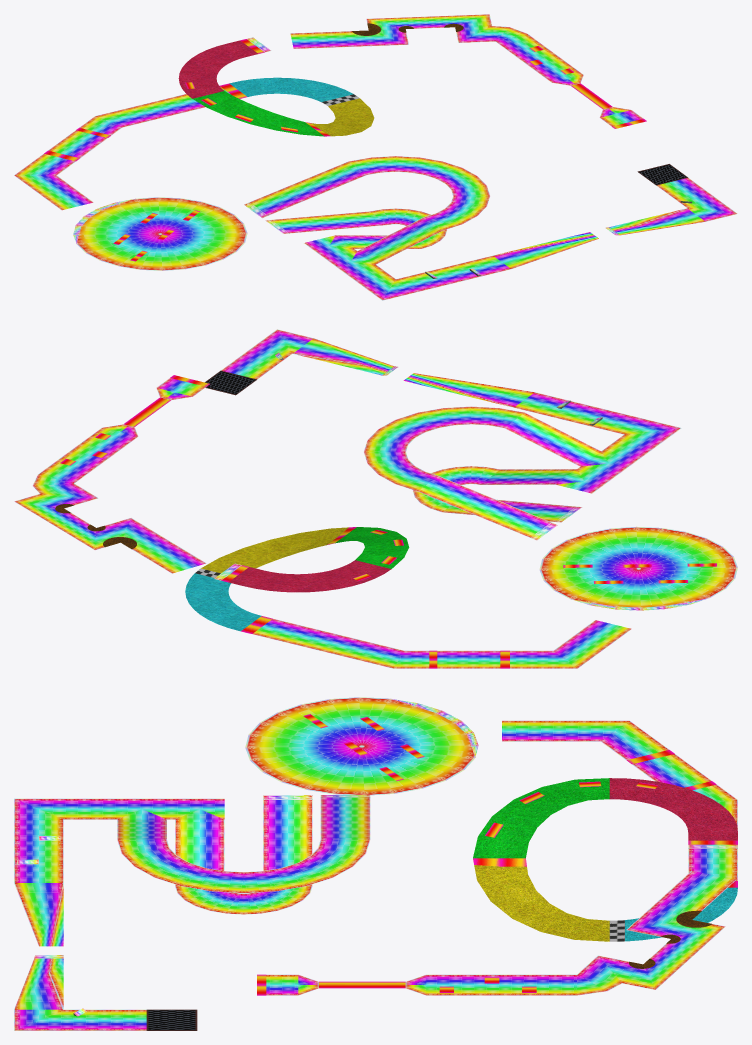
3 renders of one model, top to bottom at view 1: azimuth 30°, elevation 25°; view 2: azimuth 150°, elevation 25°; view 3: azimuth 270°, elevation 25°, orthographic. The views are drawn at different scales.
Parts seen in each view (by area): view 1: THE_RACE-SKP--Road, THE_RACE-SKP--Material3, THE_RACE-SKP--Boost, THE_RACE-SKP--Material2, THE_RACE-SKP--Groundcover_Sand_Smooth, THE_RACE-SKP--Material1, THE_RACE-SKP--Road2, THE_RACE-SKP--Road5, THE_RACE-SKP--Road3, THE_RACE-SKP--Road1; view 2: THE_RACE-SKP--Road, THE_RACE-SKP--Material3, THE_RACE-SKP--Boost, THE_RACE-SKP--Material1, THE_RACE-SKP--Groundcover_Sand_Smooth, THE_RACE-SKP--Road2, THE_RACE-SKP--Material2, THE_RACE-SKP--Road5, THE_RACE-SKP--Road1, THE_RACE-SKP--Road3; view 3: THE_RACE-SKP--Road, THE_RACE-SKP--Material1, THE_RACE-SKP--Material2, THE_RACE-SKP--Material3, THE_RACE-SKP--Boost, THE_RACE-SKP--Road2, THE_RACE-SKP--Road5, THE_RACE-SKP--Road1, THE_RACE-SKP--Road3, THE_RACE-SKP--Groundcover_Sand_Smooth, THE_RACE-SKP--Material4.
Boxes of the visible parts, x1,y1,x2,y2 form: THE_RACE-SKP--Road: (14, 14, 737, 300); THE_RACE-SKP--Material3: (178, 40, 257, 98); THE_RACE-SKP--Boost: (44, 39, 646, 261); THE_RACE-SKP--Material2: (192, 91, 324, 136); THE_RACE-SKP--Groundcover_Sand_Smooth: (229, 77, 353, 101); THE_RACE-SKP--Material1: (311, 98, 374, 136); THE_RACE-SKP--Road2: (493, 232, 598, 268); THE_RACE-SKP--Road5: (609, 208, 705, 235); THE_RACE-SKP--Road3: (637, 164, 687, 185); THE_RACE-SKP--Road1: (76, 37, 481, 277); THE_RACE-SKP--Road: (14, 329, 737, 668); THE_RACE-SKP--Material3: (228, 560, 391, 592); THE_RACE-SKP--Boost: (60, 375, 716, 668); THE_RACE-SKP--Material1: (201, 527, 348, 573); THE_RACE-SKP--Groundcover_Sand_Smooth: (185, 573, 261, 631); THE_RACE-SKP--Road2: (403, 373, 534, 407); THE_RACE-SKP--Material2: (335, 527, 409, 568); THE_RACE-SKP--Road5: (293, 338, 394, 375); THE_RACE-SKP--Road1: (214, 352, 666, 610); THE_RACE-SKP--Road3: (205, 370, 256, 395); THE_RACE-SKP--Road: (14, 697, 737, 1030); THE_RACE-SKP--Material1: (474, 865, 609, 941); THE_RACE-SKP--Material2: (473, 778, 609, 858); THE_RACE-SKP--Material3: (609, 778, 737, 840); THE_RACE-SKP--Boost: (257, 714, 737, 995); THE_RACE-SKP--Road2: (14, 883, 63, 946); THE_RACE-SKP--Road5: (14, 958, 63, 1009); THE_RACE-SKP--Road1: (17, 711, 737, 1016); THE_RACE-SKP--Road3: (146, 1009, 197, 1030); THE_RACE-SKP--Groundcover_Sand_Smooth: (625, 887, 737, 941); THE_RACE-SKP--Material4: (629, 910, 712, 968).
Size of the model in its own units: 56796 by 4943 by 50857.
18 materials, 18 textured.
